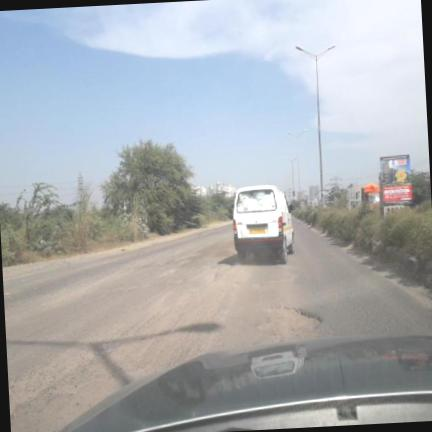Road: (3, 222, 431, 431)
